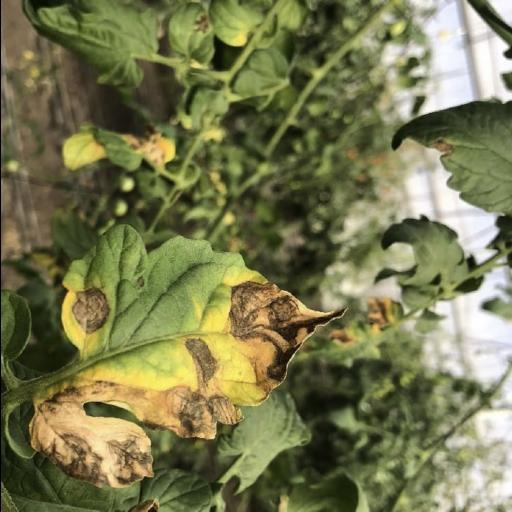disease_tomato: (58, 221, 348, 445)
